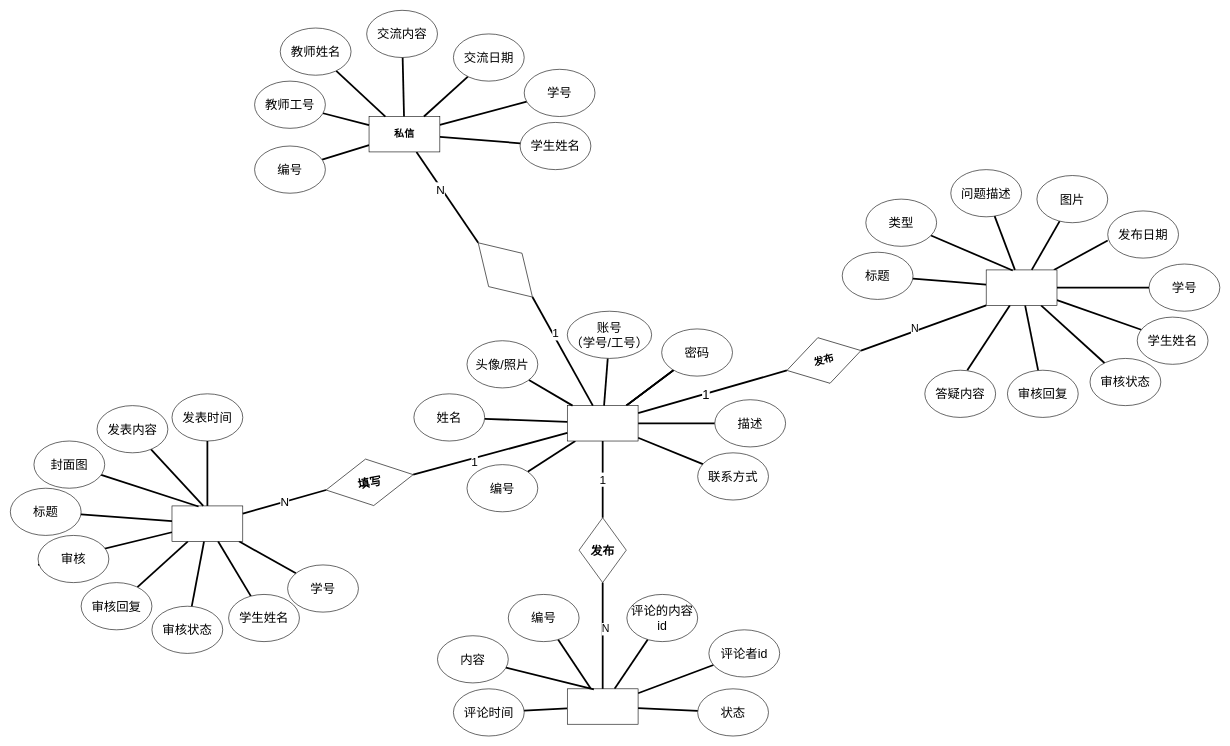
This 1230x746 diagram has some shape labels left out. Here are the shapes that lost their labels. From the top down, the box of each, then its label:
(461, 225, 549, 314): 发送
(986, 269, 1057, 305): 问题
(567, 405, 638, 441): 用户
(171, 505, 243, 541): 课程意见箱
(567, 688, 638, 724): 评论
